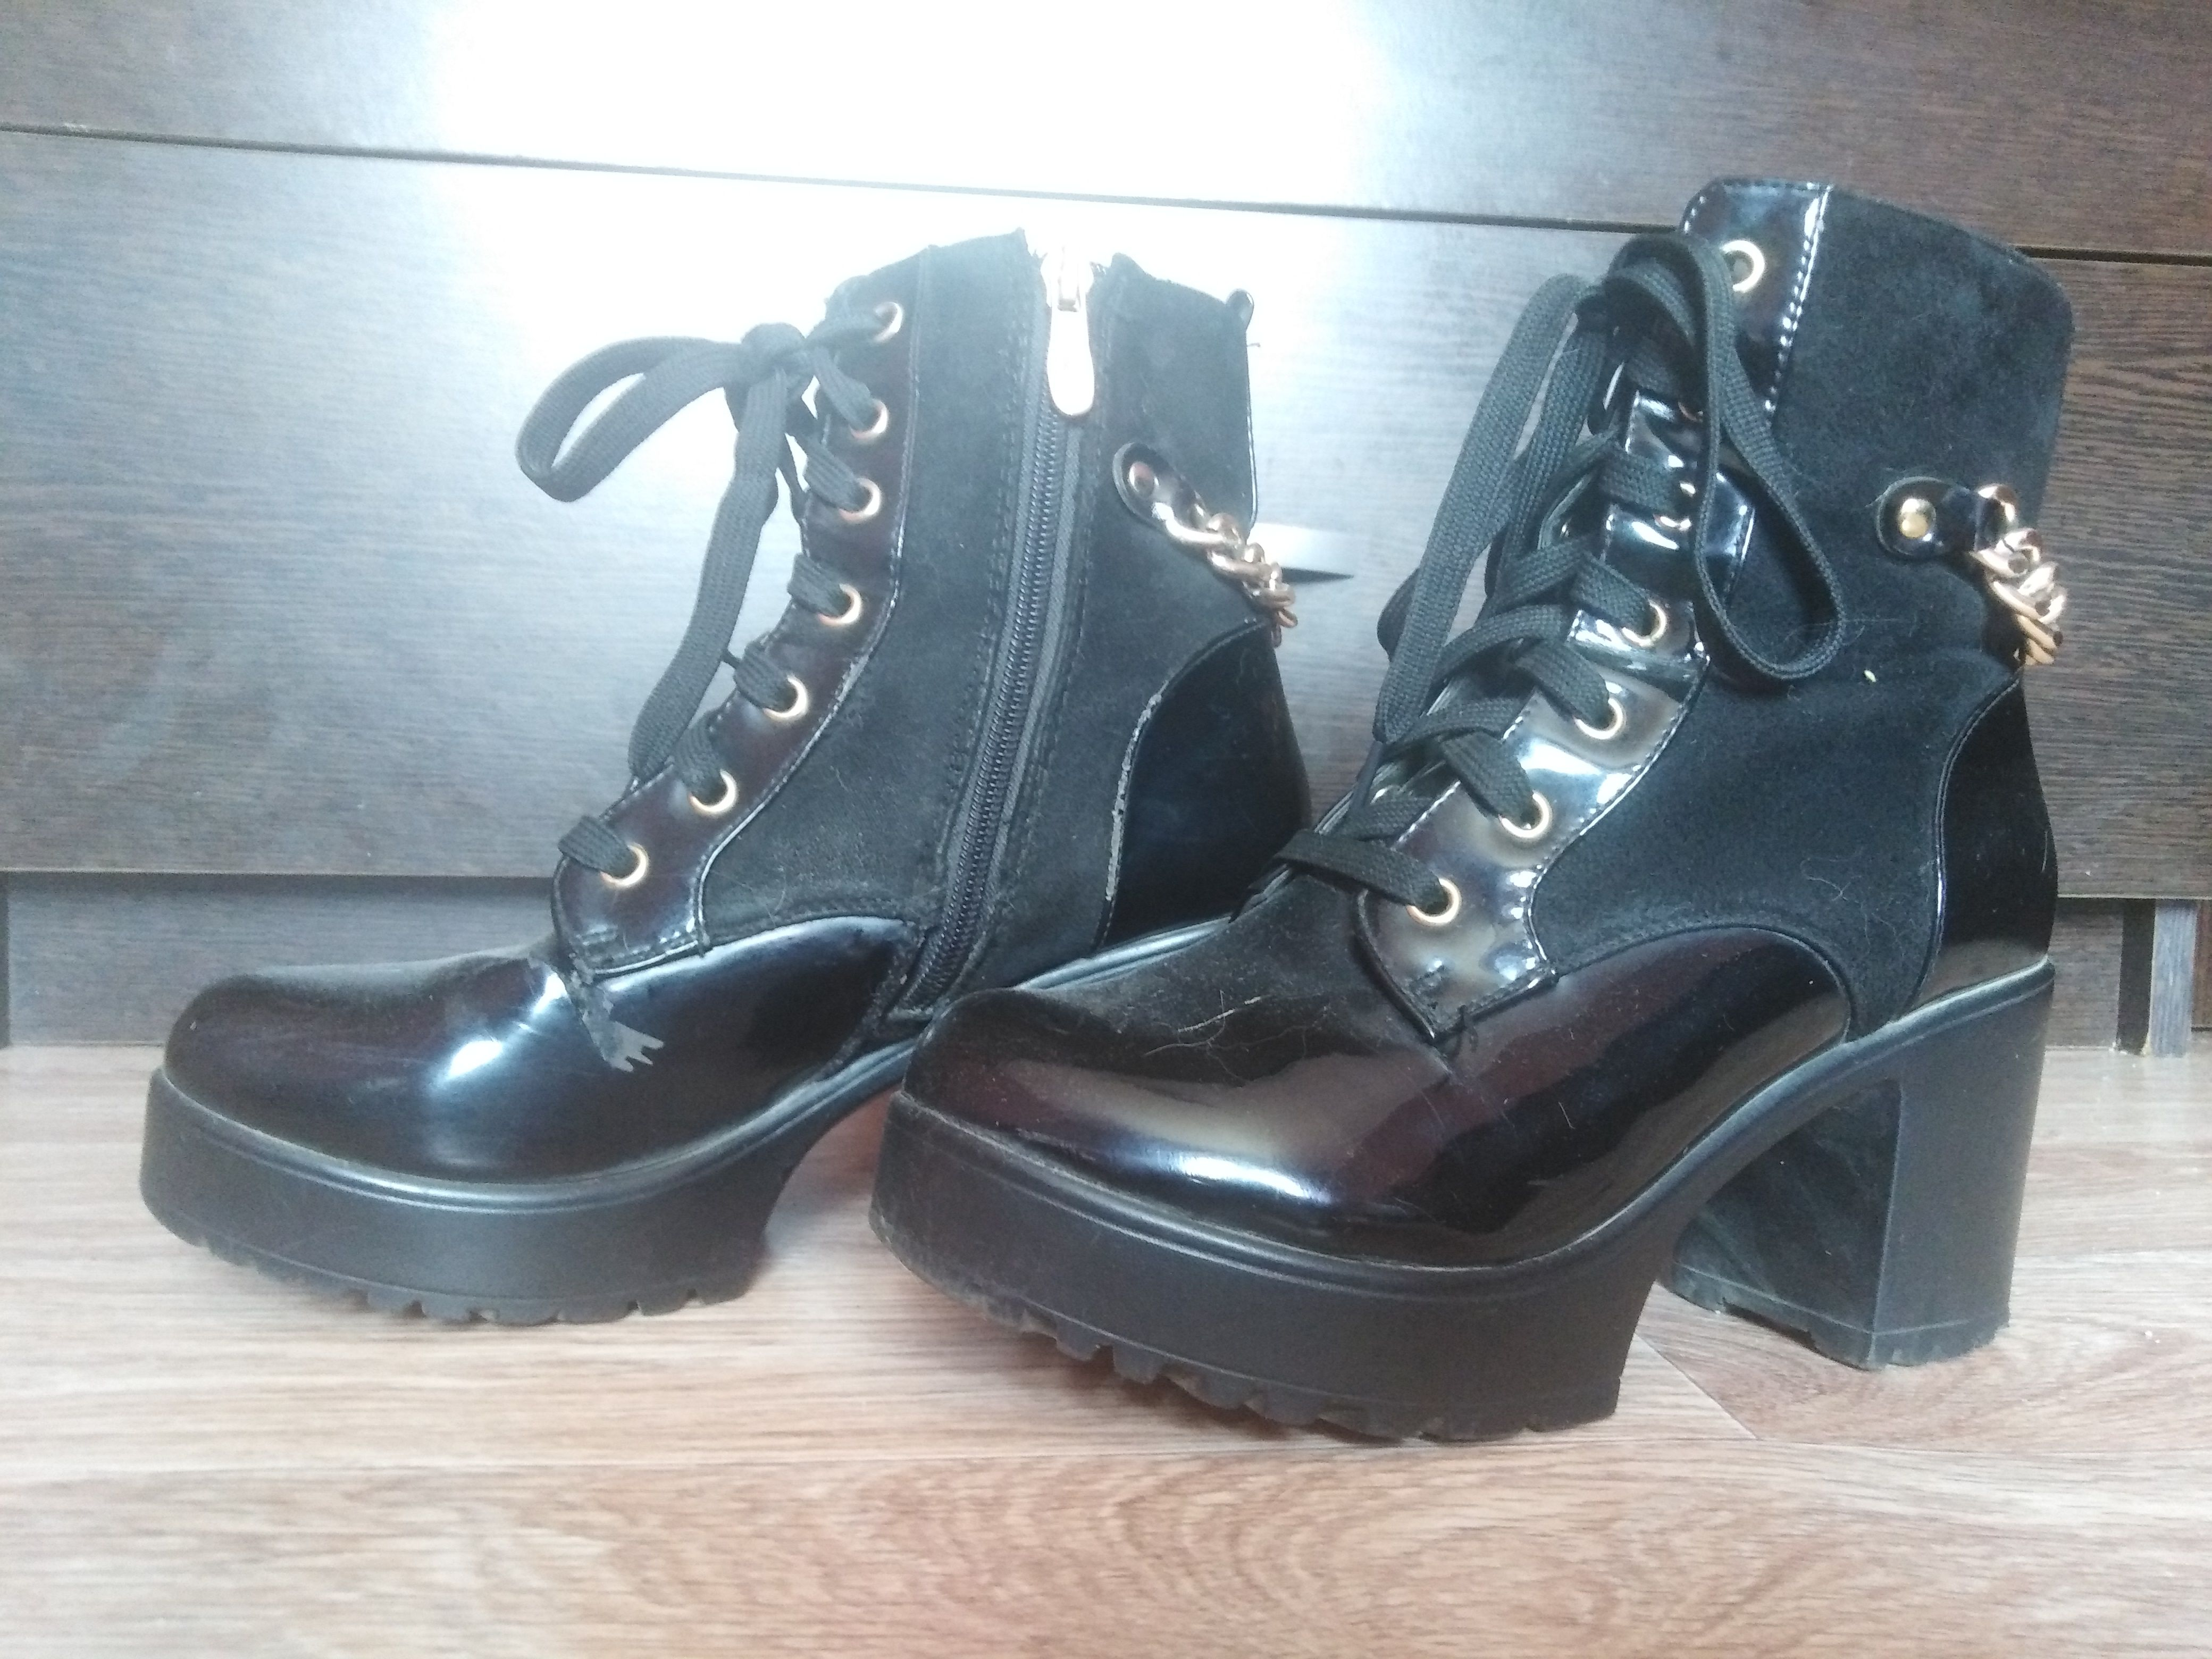clothes: (153, 183, 2078, 1441)
